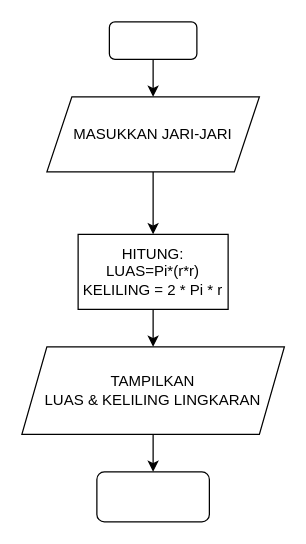
The diagram is 306 pixels wide and 544 high, and some of its shapes have lost their labels. Here are the shapes that lost their labels. From the top down, the centre of each, then its label:
(152,40): MULAI
(152,496): SELESAI
